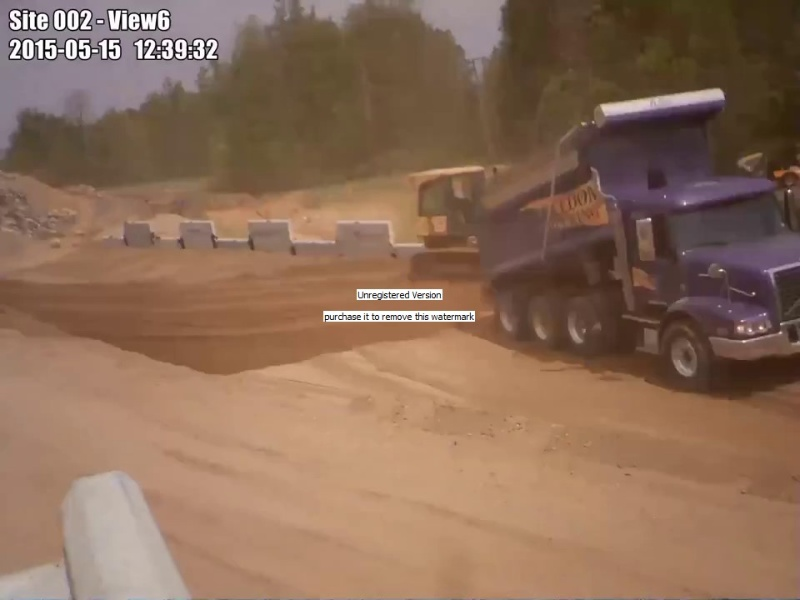bulldozer: (406, 163, 487, 280)
dumptruck: (472, 86, 800, 394)
wall: (101, 221, 420, 262)
